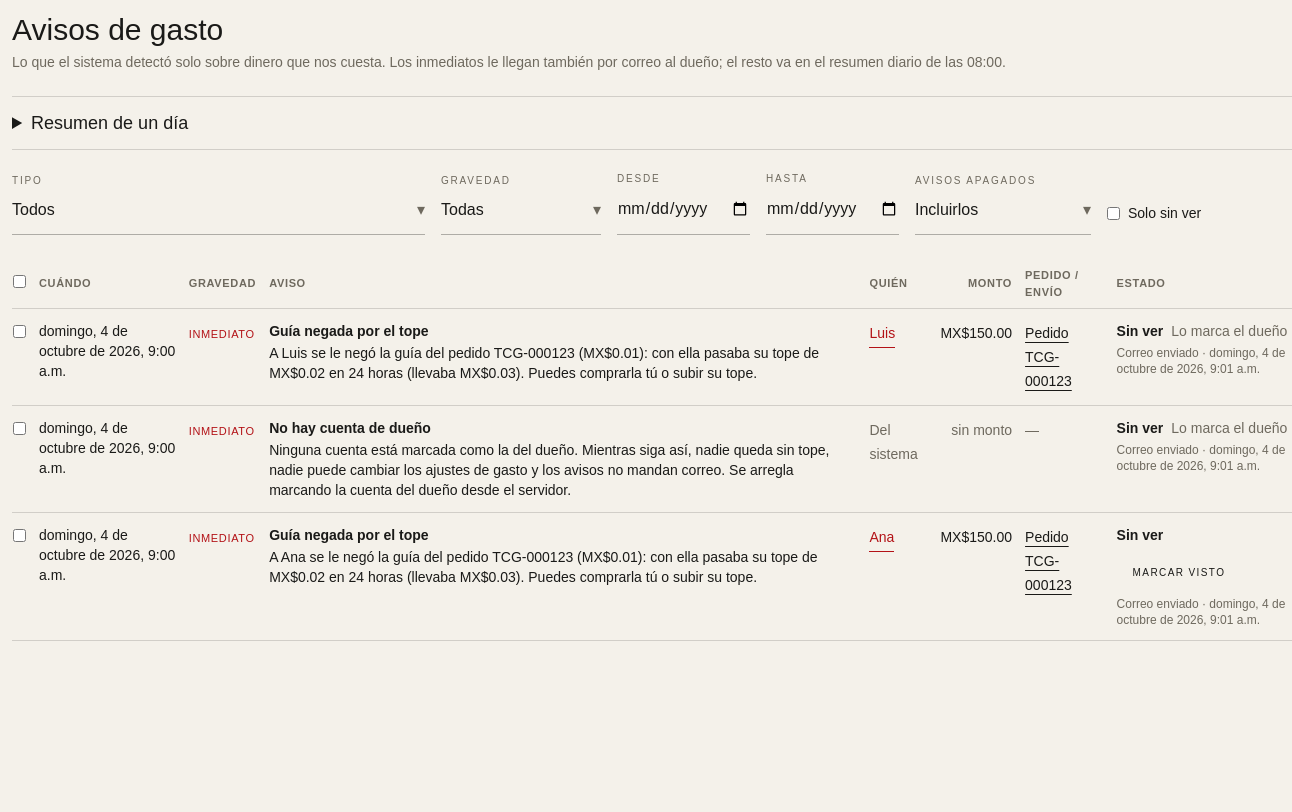
UX-GAS-10 · `seen` de un súper-admin que no es el dueño (§43.20.6) › no dueño: su propia fila y la AG-21 ⇒ cero «Marcar visto» y «Lo marca el dueño»; la de otro ⇒ botón; `skipped` ⇒ las dos frases
The width and height of the screenshot is (1292, 812).
Expected: the table with test id "spend-alerts-table" is shown, [12,259,1291,641]
Expected: the number of buttons "Marcar visto" is 1, [1117,553,1241,592]
Note: La selección múltiple no se recorta (OWN-2): el servidor decide y el resultado lo dice.
Click the checkbox named "Seleccionar los de esta página" at [20, 281], box [13,275,26,288]
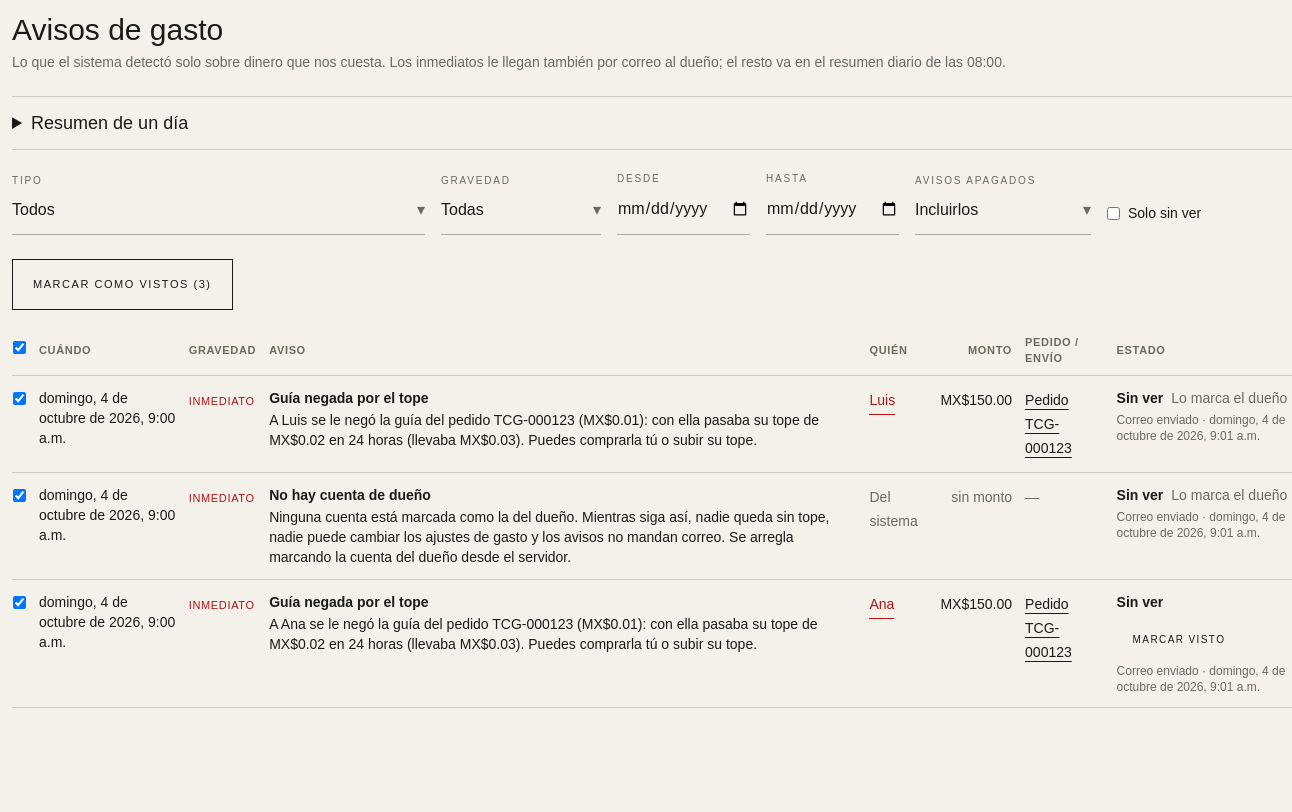
Click the button "Marcar como vistos (3)" at [122, 284], box [12,259,232,310]
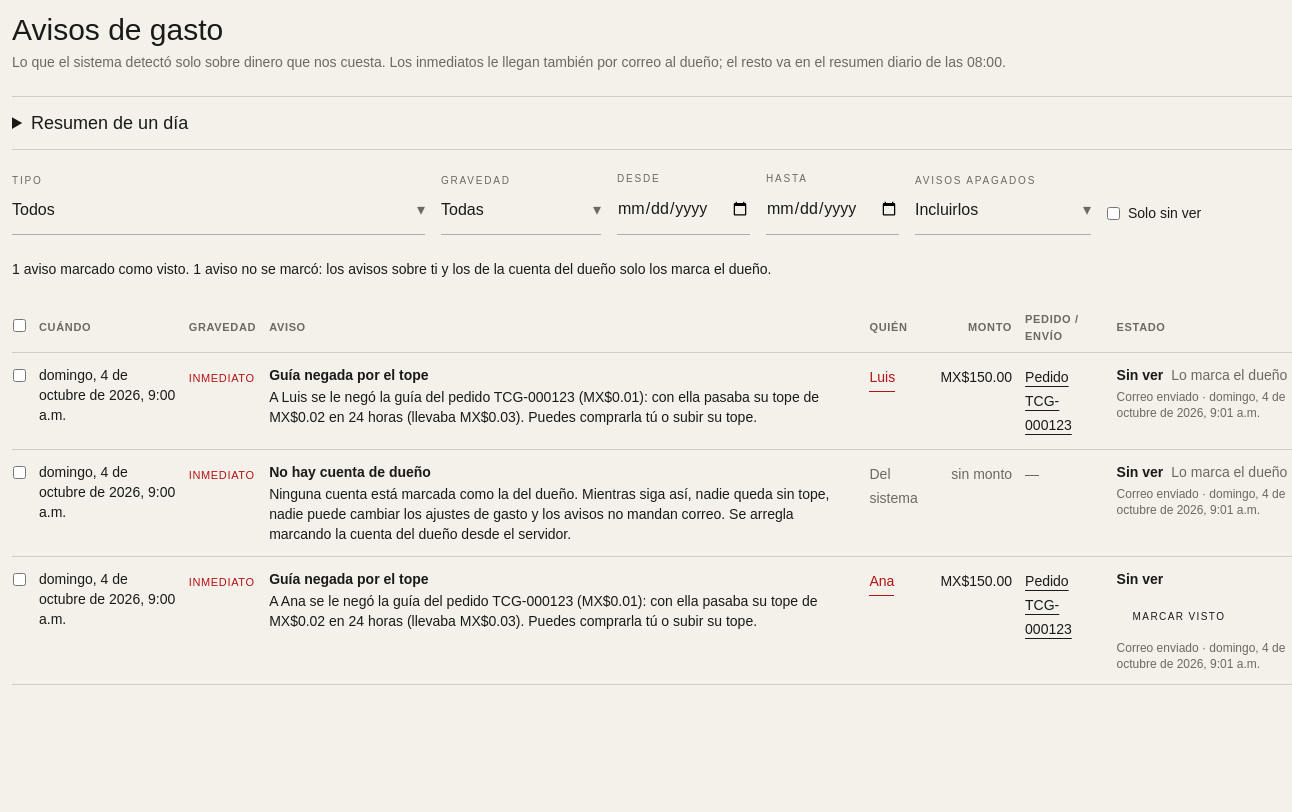
Expected: the message shows "1 aviso marcado como visto.", [12,261,772,277]
Expected: the message shows "1 aviso no se marcó: los avisos sobre ti y los de la cuenta del dueño solo los marca el dueño.", [12,261,772,277]
